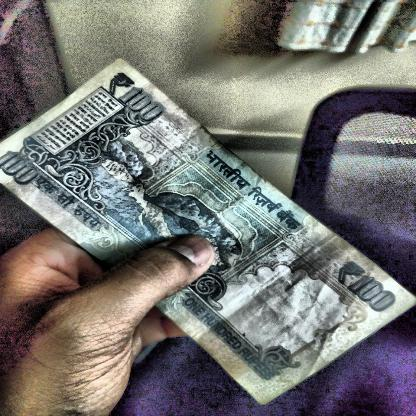Rs100: (323, 254, 406, 319), (98, 68, 174, 129)
